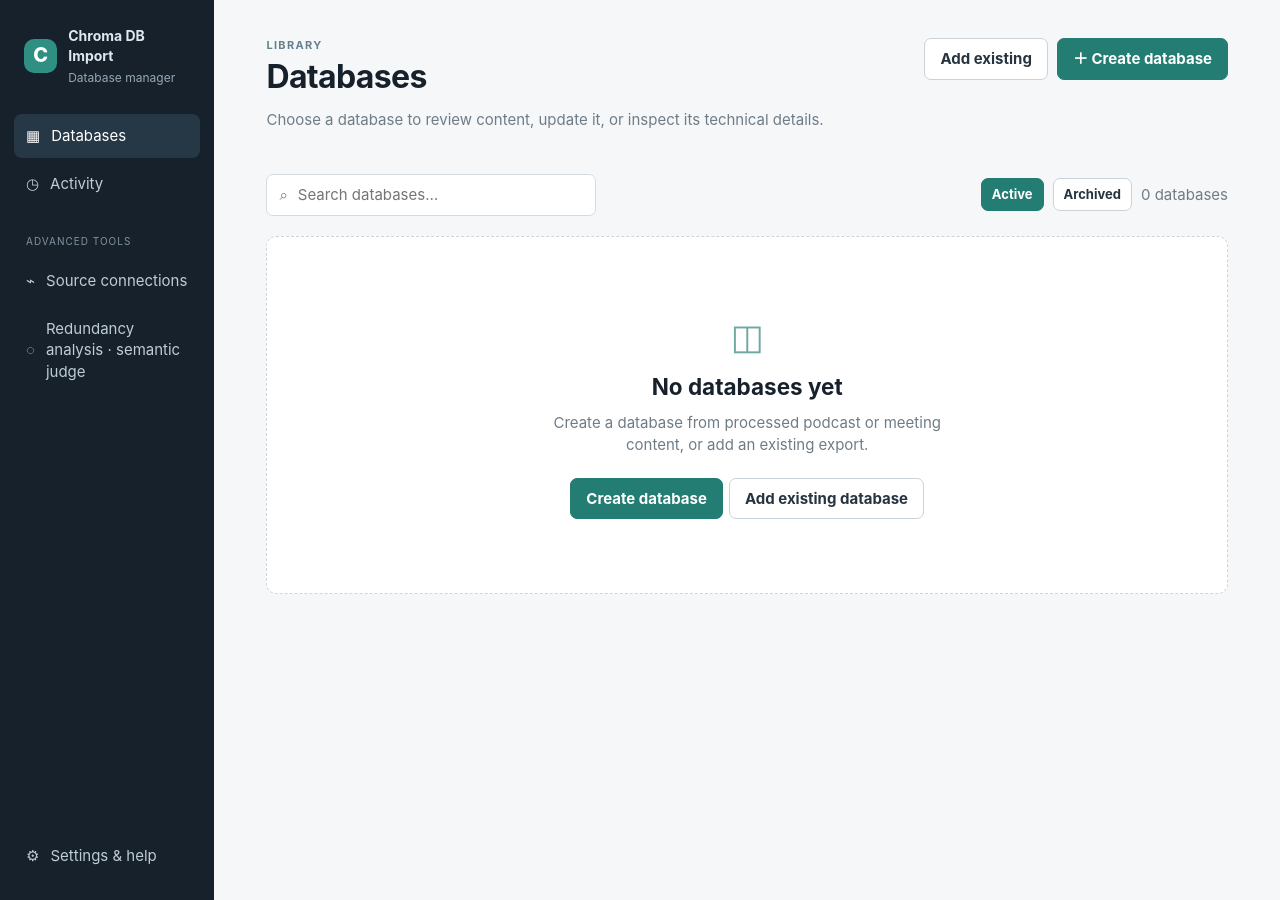
Scenario: modern database creation flow › shows actual operation totals and active-database state in Activity
The image size is (1280, 900).
Expected: the heading "No databases yet" is shown, [652,373,843,400]
Step 1. Click the button "◷ Activity" → click(107, 184), box [14,162,200,206]
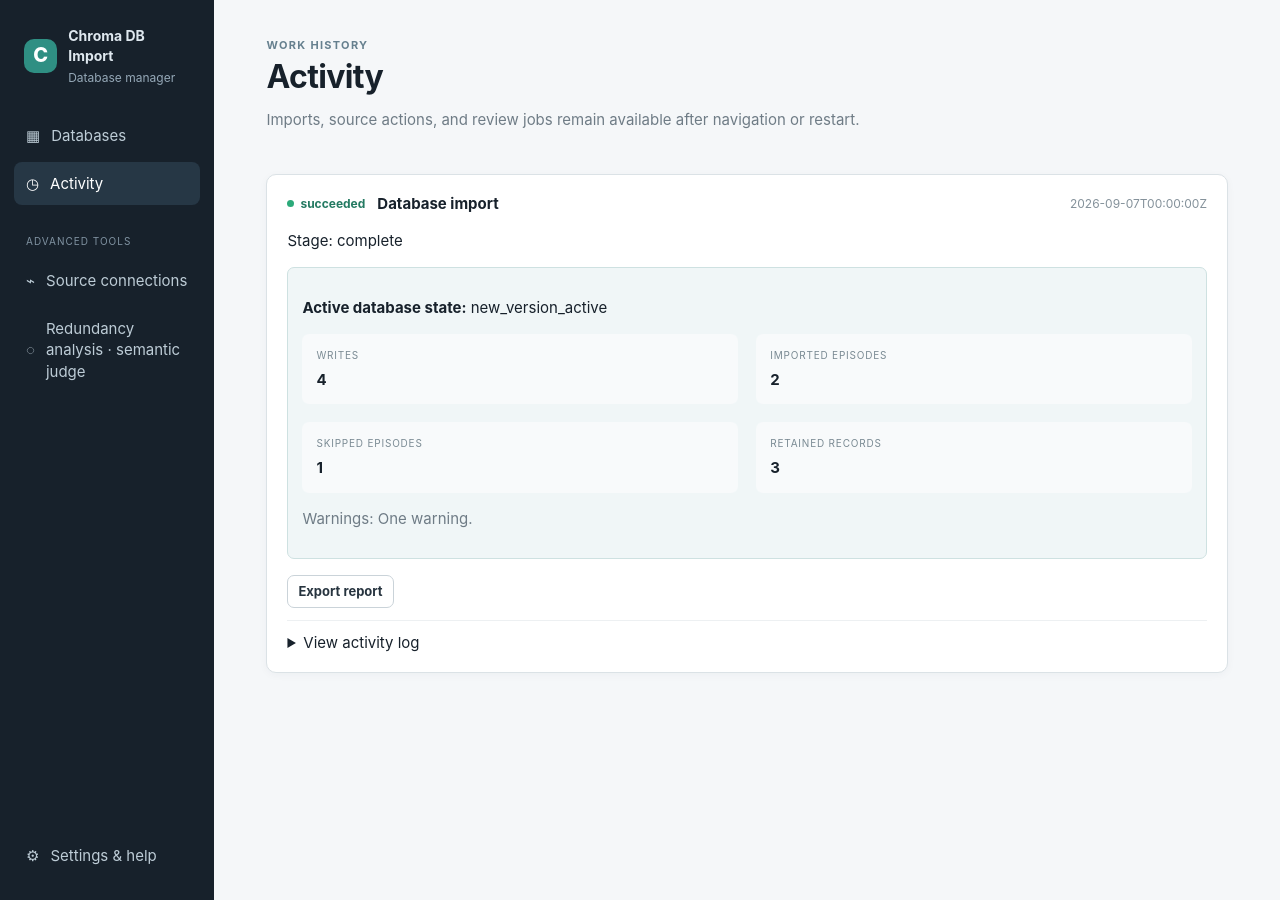
Expected: the element named "Operation result summary" is shown, [287,267,1207,559]
Expected: the text "Writes" is shown, [316,349,359,361]
Expected: the text "new_version_active" is shown, [471,298,607,317]
